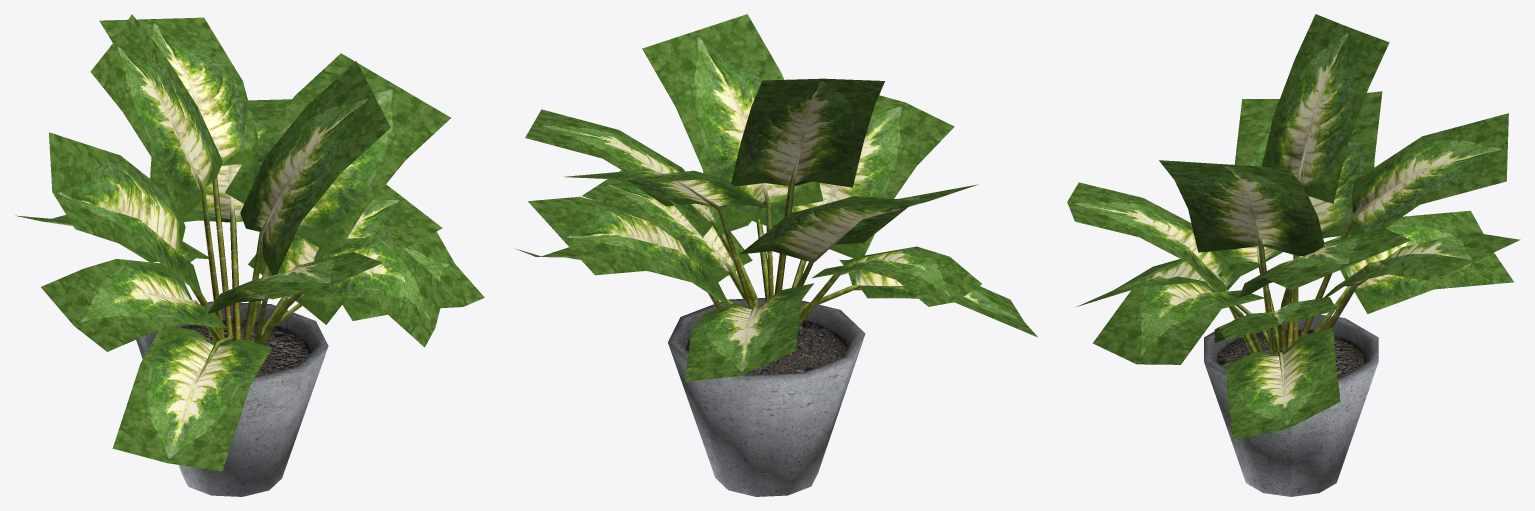
Rendered from Furniture_foliageplant_02_LOD1 #39128.fbx.
The picture shows the model from 3 angles, left to right: view 1: azimuth 30°, elevation 25°; view 2: azimuth 150°, elevation 25°; view 3: azimuth 270°, elevation 25°; orthographic projection. The views are drawn at different scales.
Visible parts, largest first — view 1: foliageplant_02_B1, foliageplant_02_A; view 2: foliageplant_02_B1, foliageplant_02_A; view 3: foliageplant_02_B1, foliageplant_02_A.
Boxes of the visible parts, x1,y1,x2,y2 form: foliageplant_02_B1: (15,14,484,471); foliageplant_02_A: (136,301,328,496); foliageplant_02_B1: (515,14,1037,381); foliageplant_02_A: (668,298,865,496); foliageplant_02_B1: (1067,14,1520,439); foliageplant_02_A: (1204,314,1378,496).
Size of the model in its own units: 0.4925 by 0.4949 by 0.4934.
Materials: 2 (2 with a texture image).
